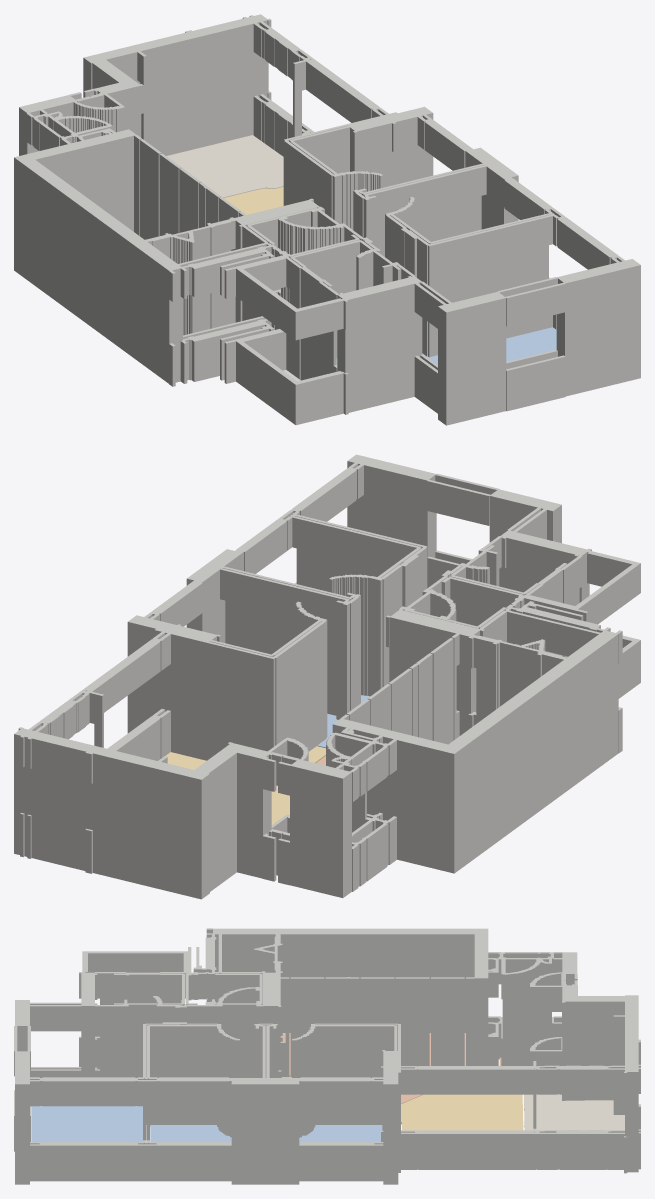
The picture shows the model from 3 angles, top to bottom: view 1: azimuth 30°, elevation 25°; view 2: azimuth 150°, elevation 25°; view 3: azimuth 270°, elevation 25°; orthographic projection. The views are drawn at different scales.
Parts seen in each view (by area): view 1: walls, room:other:0, room:bedroom:5, room:living:1; view 2: walls, room:living:1; view 3: walls, room:living:1, room:bedroom:5, room:other:0, room:bedroom:7, room:bedroom:3, room:kitchen:2.
Boxes of the visible parts, <box> form: walls: <box>14,14,640,425</box>; room:other:0: <box>166,135,283,197</box>; room:bedroom:5: <box>422,327,556,364</box>; room:living:1: <box>224,187,283,214</box>; walls: <box>14,454,640,899</box>; room:living:1: <box>165,746,325,824</box>; walls: <box>14,928,640,1184</box>; room:living:1: <box>401,1094,523,1130</box>; room:bedroom:5: <box>31,1106,142,1142</box>; room:other:0: <box>524,1094,624,1130</box>; room:bedroom:7: <box>150,1125,231,1142</box>; room:bedroom:3: <box>299,1125,382,1142</box>; room:kitchen:2: <box>281,1033,501,1103</box>.
Bounding box in the file's own units: 9.33 × 2.8 × 15.86.
